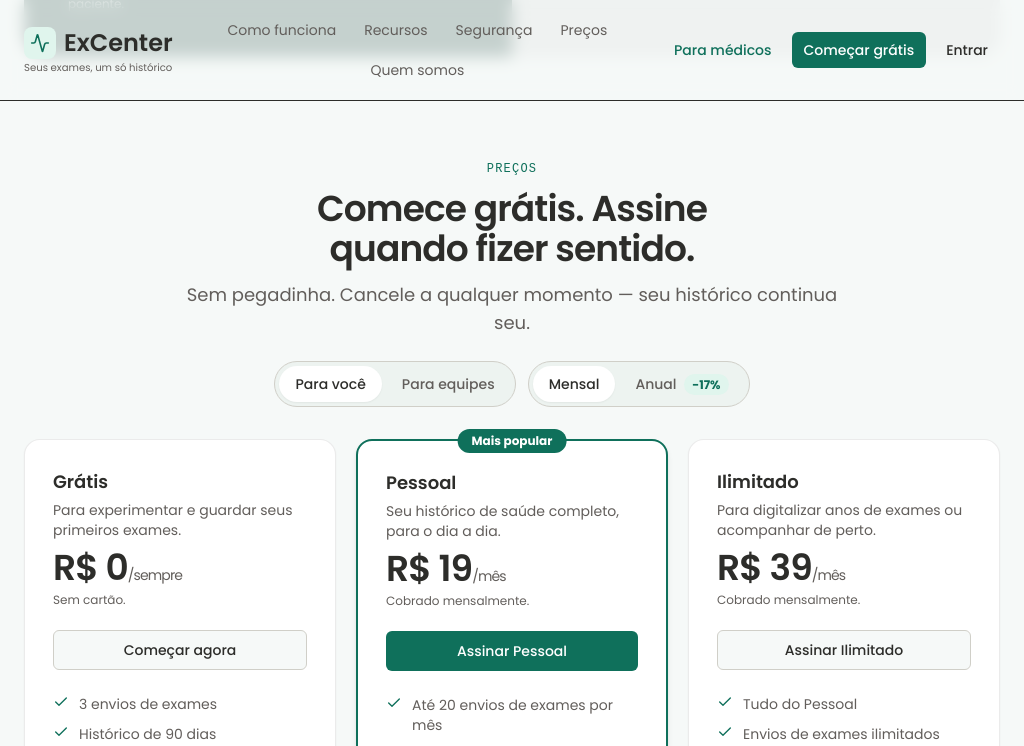
Test case: Landing — planos para equipes › voltar Para você restaura os planos individuais
(page scrolled)
Click the button "Para equipes": (448, 384) [386,366,511,402]
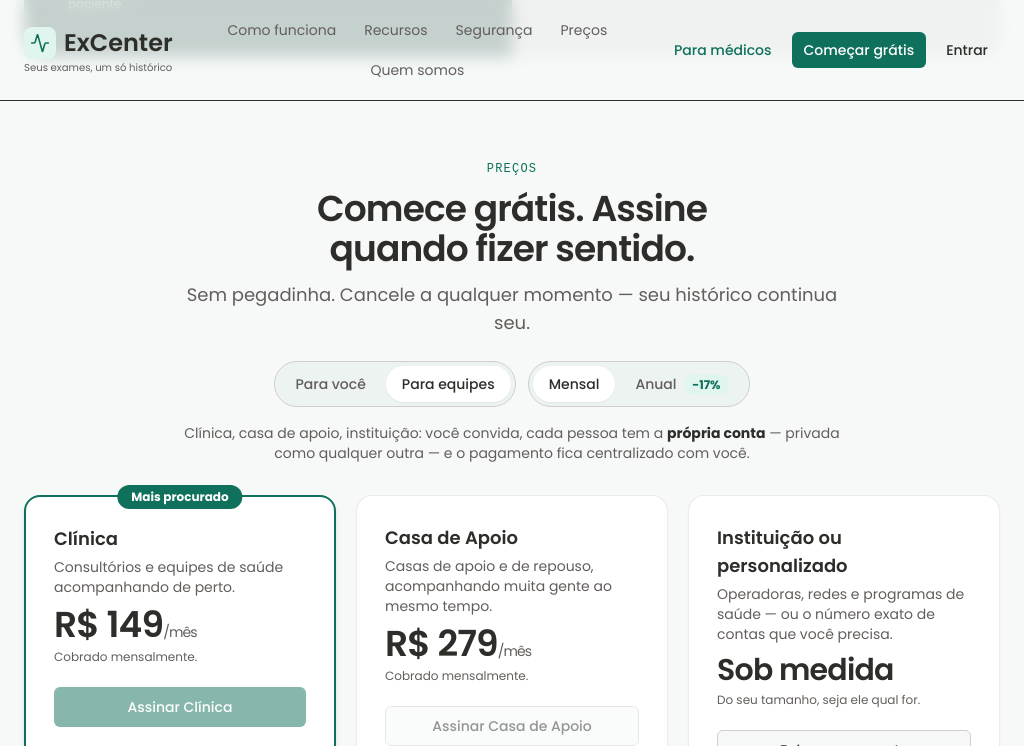
Click the button "Para você": (331, 384) [280,366,382,402]
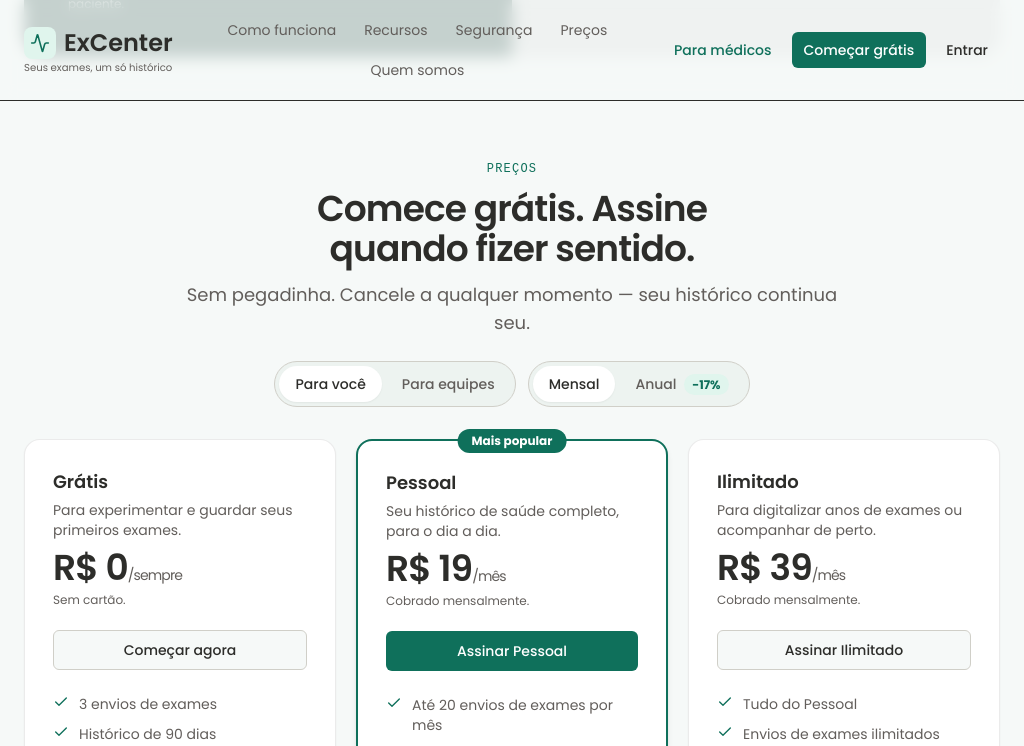
Expected: the text "Clínica" is not shown
Now the button "Assinar Pessoal" is shown, box [386,631,638,671]
